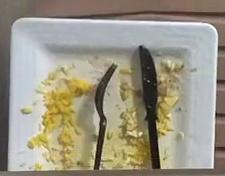rice: (27, 70, 91, 168)
